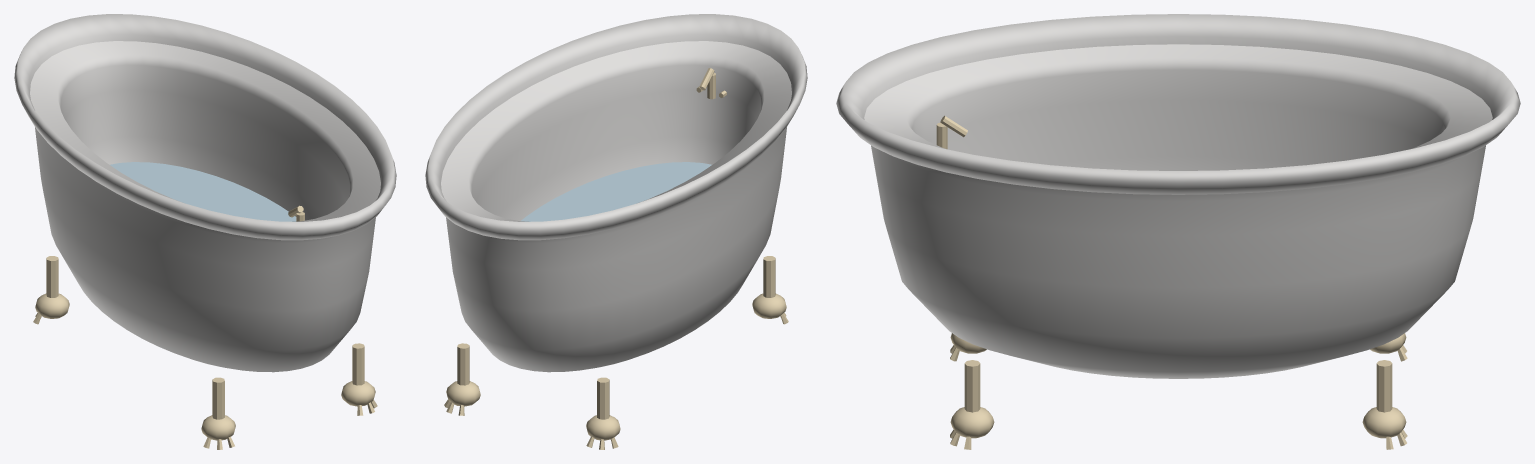
File: bathtub.glb
3 views of the same model, side by side, from view 1: azimuth 30°, elevation 25°; view 2: azimuth 150°, elevation 25°; view 3: azimuth 270°, elevation 25° (orthographic). The views are drawn at different scales.
Visible parts, largest first — view 1: Bathtub; view 2: Bathtub; view 3: Bathtub.
Part boxes in pixels (x1,y1,x2,y2): Bathtub: (14, 14, 396, 449); Bathtub: (425, 14, 807, 449); Bathtub: (836, 14, 1520, 449).
Bounding box in the file's own units: 0.9504 × 0.8511 × 1.72.
